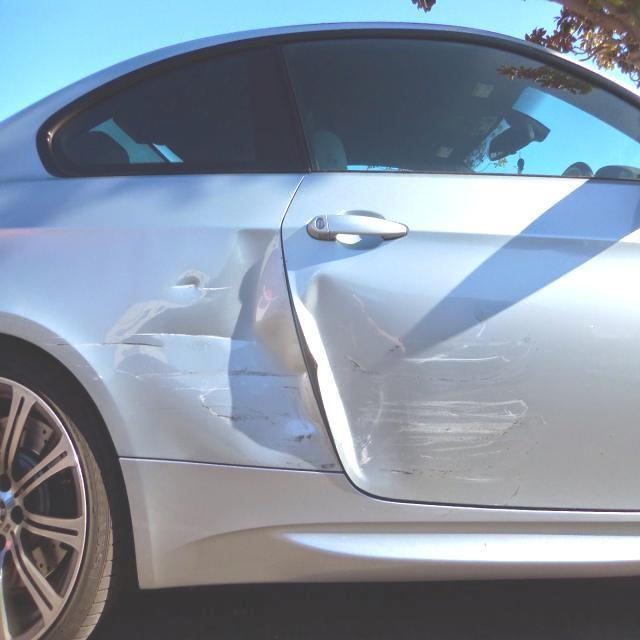minor: (390, 324, 526, 380)
moderate: (86, 221, 340, 469), (285, 270, 402, 492), (380, 399, 542, 483)
